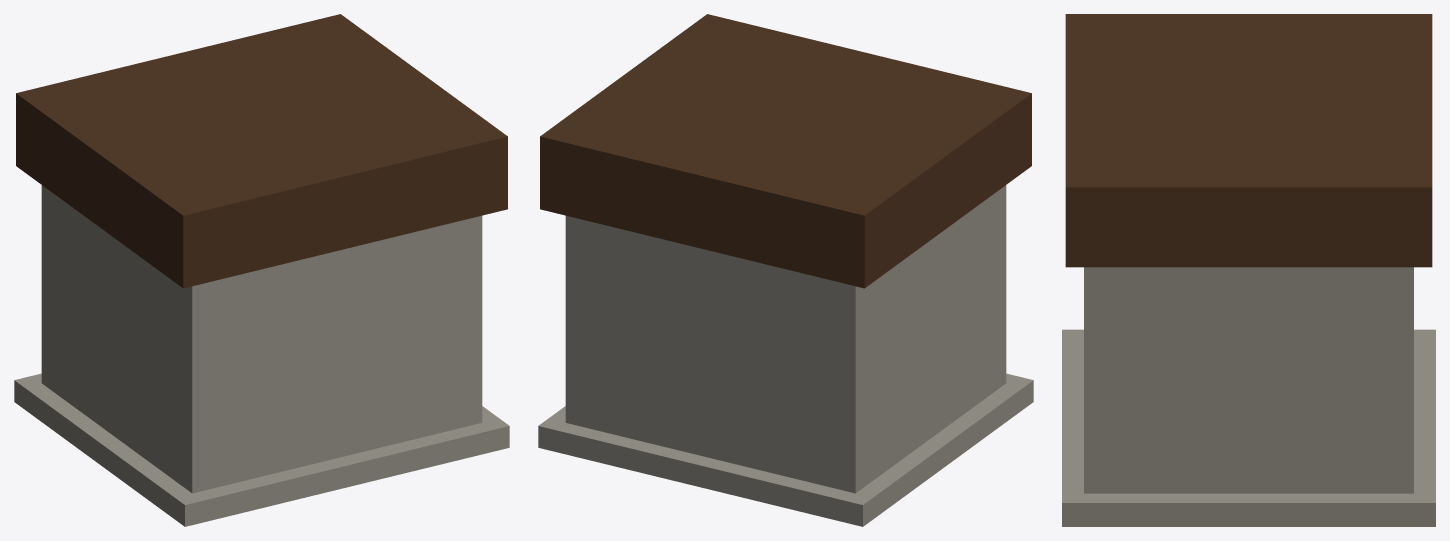
The model's file is bld_residential_a02_lod2.glb.
3 renders of one model, left to right at view 1: azimuth 30°, elevation 25°; view 2: azimuth 150°, elevation 25°; view 3: azimuth 270°, elevation 25°, orthographic. The views are drawn at different scales.
Visible parts, largest first — view 1: body; view 2: body; view 3: body.
Part boxes in pixels (x1,y1,x2,y2): body: [14, 14, 509, 526]; body: [538, 14, 1033, 526]; body: [1062, 14, 1435, 526].
Bounding box in the file's own units: 5.6 × 5.11 × 5.1.
